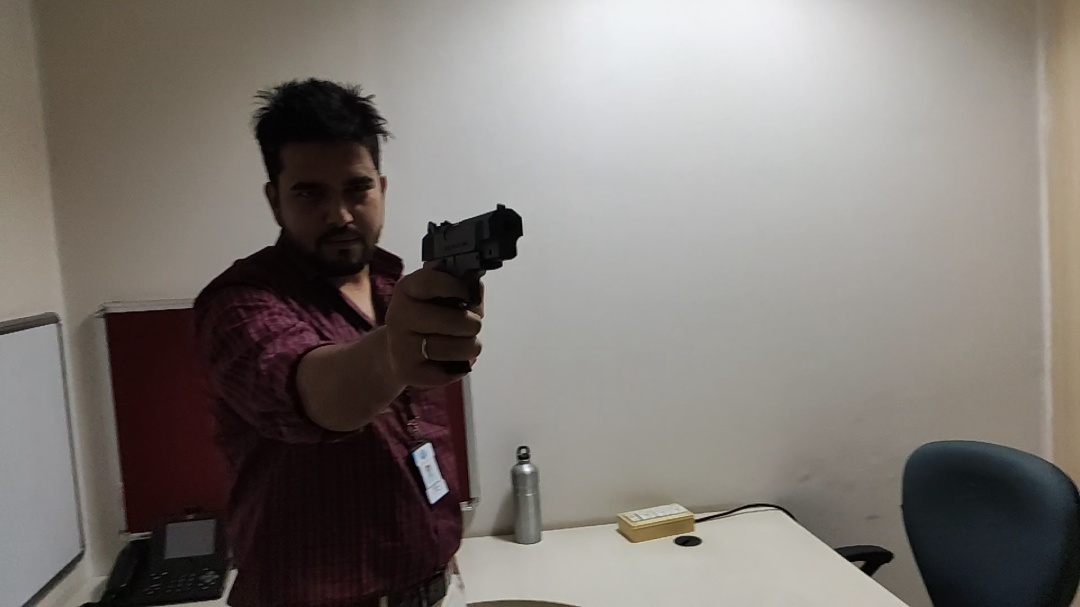gun: (418, 201, 526, 392)
